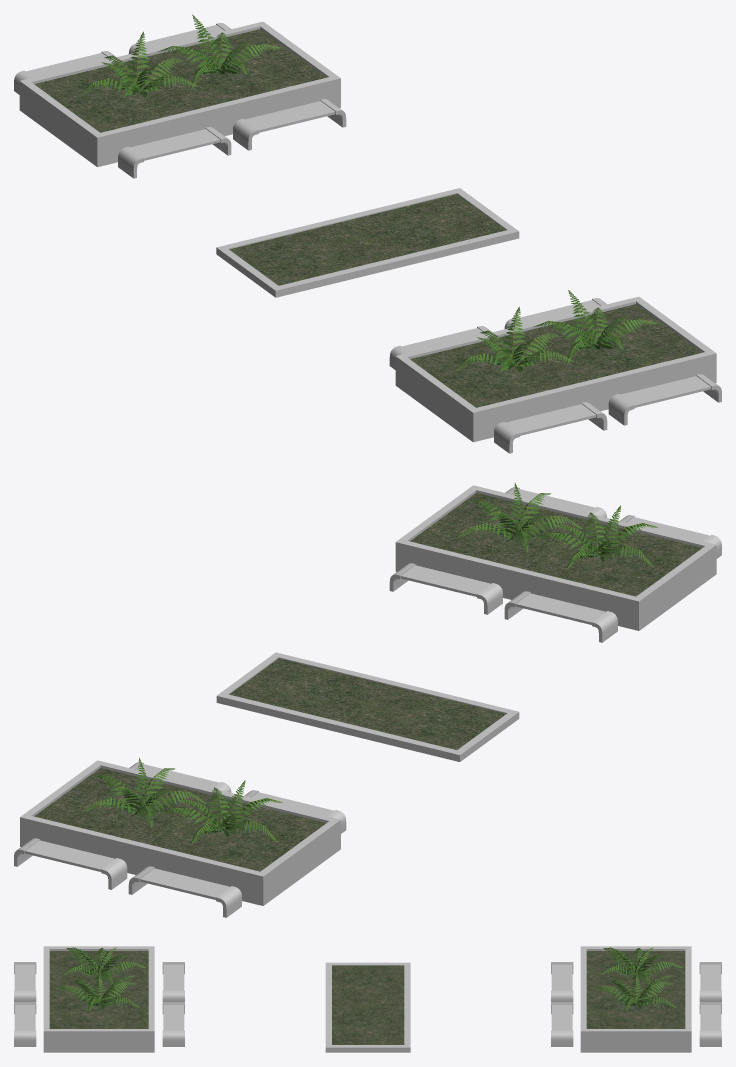
Rendered from Park-02.fbx.
The picture shows the model from 3 angles, top to bottom: view 1: azimuth 30°, elevation 25°; view 2: azimuth 150°, elevation 25°; view 3: azimuth 270°, elevation 25°; orthographic projection. The views are drawn at different scales.
Parts seen in each view (by area): view 1: Park-02, Park-02-Grass; view 2: Park-02, Park-02-Grass; view 3: Park-02, Park-02-Grass.
Boxes of the visible parts, x1,y1,x2,y2 form: Park-02: (14,14,721,453); Park-02-Grass: (34,29,701,407); Park-02: (14,483,721,917); Park-02-Grass: (34,493,701,871); Park-02: (14,946,721,1052); Park-02-Grass: (49,951,685,1044).
Size of what is drawn, in the model's own units: 6.72 by 1.76 by 23.68.
